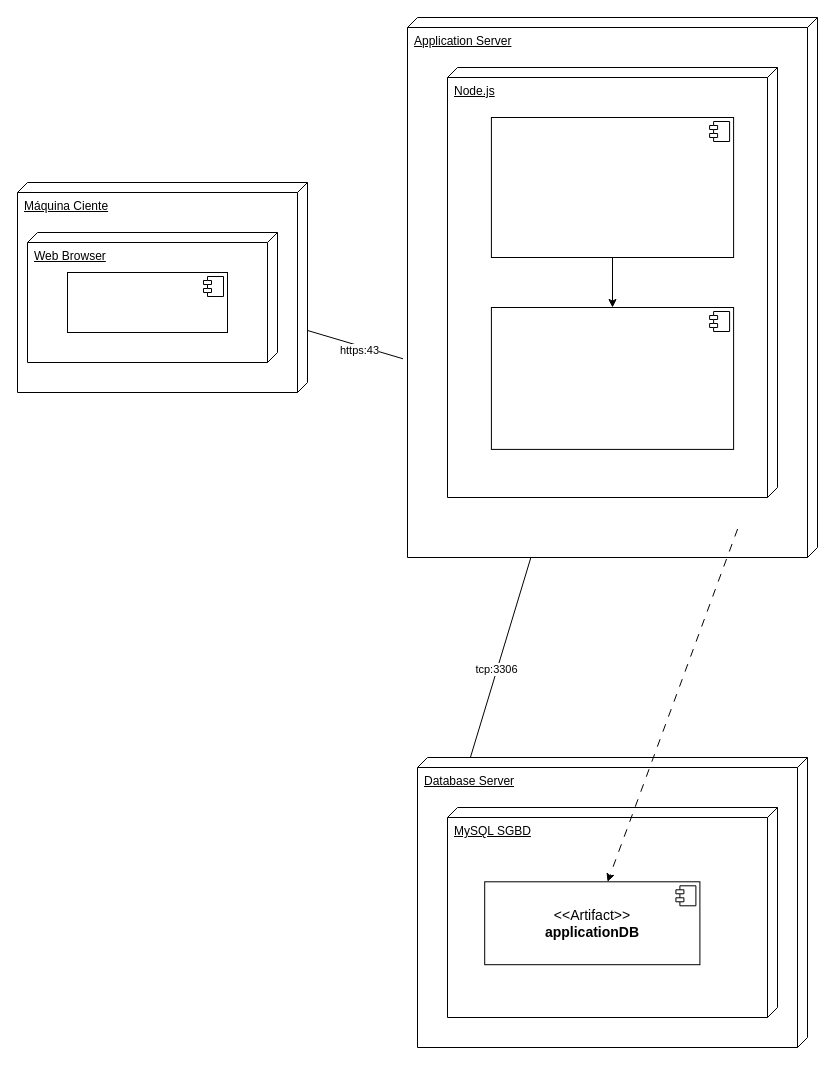
Image size: 835x1065. Some labels were removed from this diagram. Here are the shapes that lost their labels. From the top down, the centre of each, then its label:
[612,187]: <<Artifact >> application-frontend.jejs
[147,302]: Web Content
[612,377]: <<Artifact >> application-backend.jar
